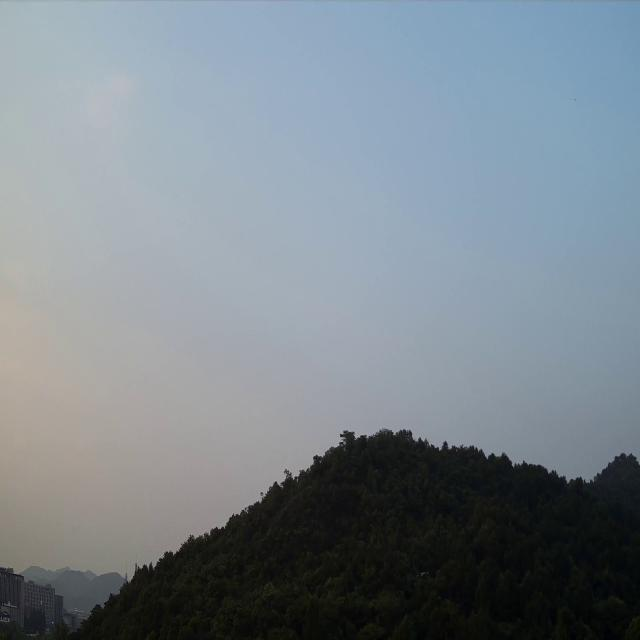UAV: (415, 570, 429, 578)
